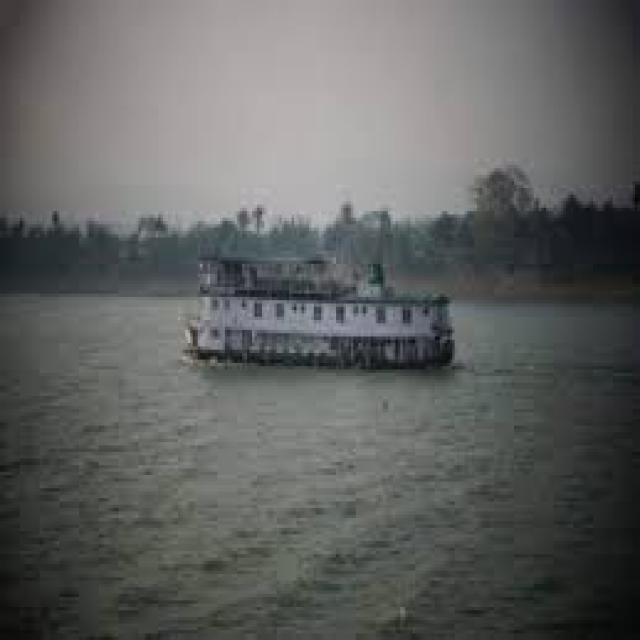houseboat: (188, 240, 452, 388)
